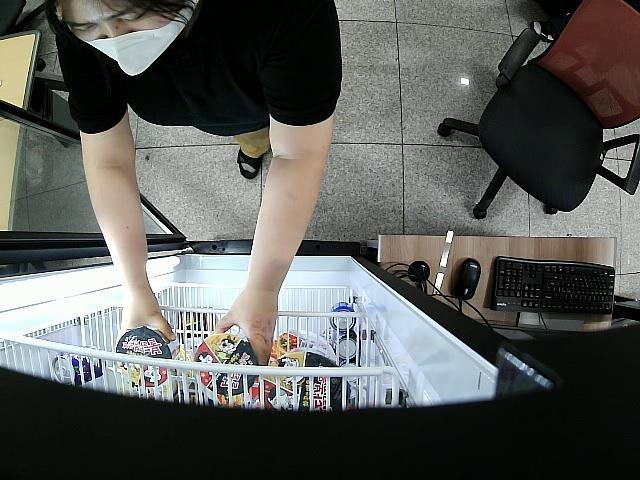08_buldak_S: (194, 332, 259, 396), (117, 326, 179, 386)
